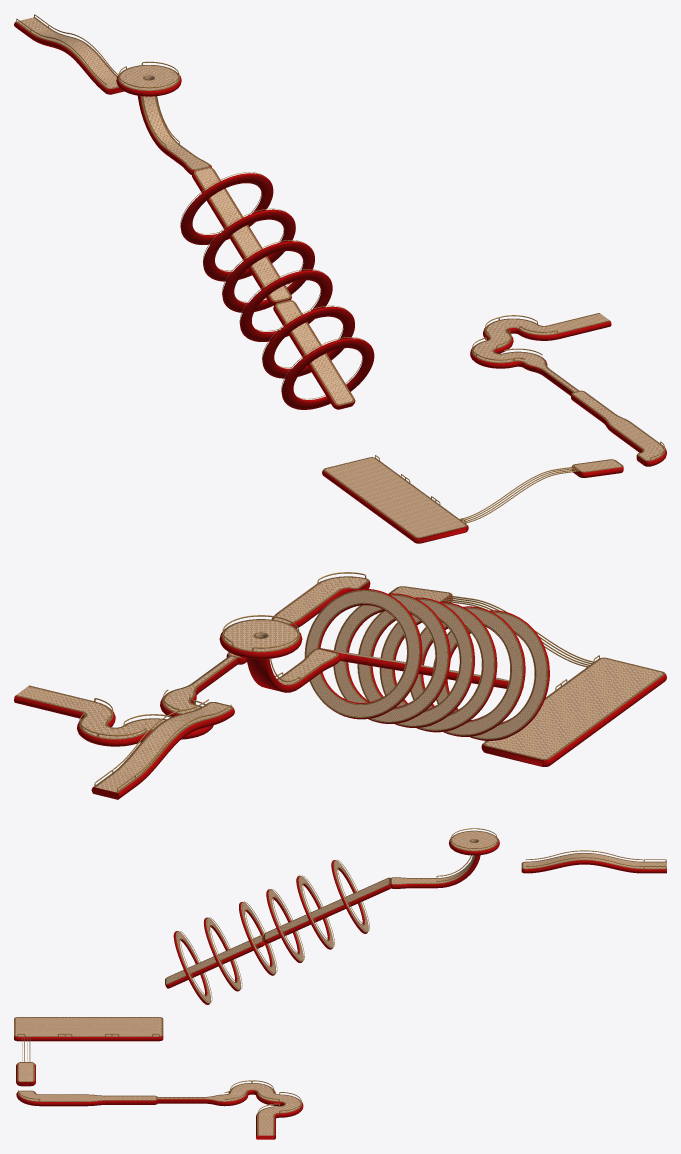
Rendered from map34.fbx.
3 views of the same model, one above another, from view 1: azimuth 30°, elevation 25°; view 2: azimuth 150°, elevation 25°; view 3: azimuth 270°, elevation 25° (orthographic). The views are drawn at different scales.
Parts seen in each view (by area): view 1: Normal; view 2: Normal; view 3: Normal.
Part boxes in pixels (x1=…): Normal: x1=14, y1=14, x2=666, y2=543; Normal: x1=14, y1=572, x2=666, y2=799; Normal: x1=14, y1=828, x2=666, y2=1139.
Size of the model in its own units: 8469 by 5481 by 16632.
16 materials, 6 textured.
